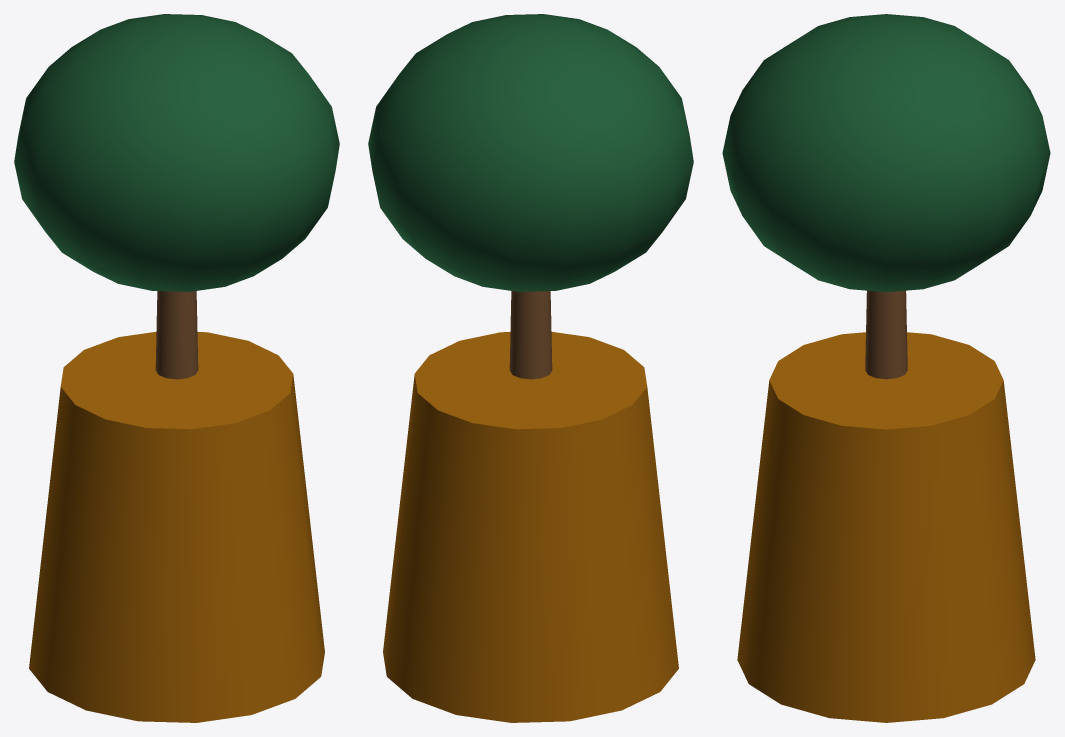
3 views of the same model, side by side, from view 1: azimuth 30°, elevation 25°; view 2: azimuth 150°, elevation 25°; view 3: azimuth 270°, elevation 25° (orthographic).
Parts seen in each view (by area): view 1: tall-garden-planter; view 2: tall-garden-planter; view 3: tall-garden-planter.
Boxes of the visible parts, x1=… form: tall-garden-planter: x1=14, y1=14, x2=339, y2=722; tall-garden-planter: x1=368, y1=14, x2=693, y2=722; tall-garden-planter: x1=722, y1=14, x2=1050, y2=722.
Bounding box in the file's own units: 0.616 × 1.3 × 0.616.
